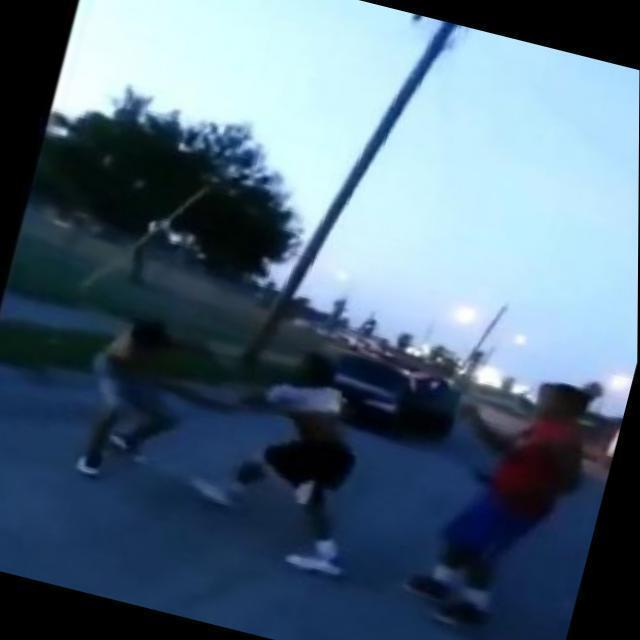fight: (56, 302, 384, 554)
